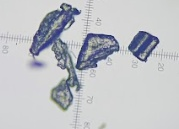microplastic: (28, 2, 82, 57), (75, 32, 121, 71), (51, 37, 81, 92), (127, 30, 161, 63), (49, 78, 75, 113)
